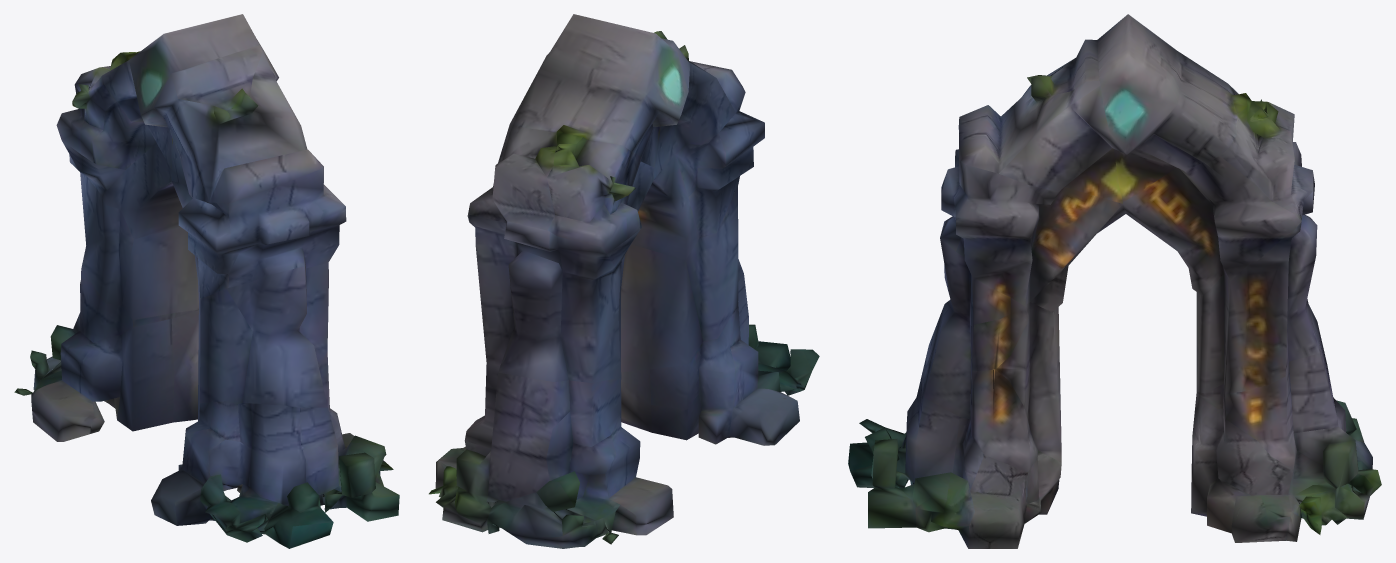
Rendered from portal_frame.glb.
3 views of the same model, side by side, from view 1: azimuth 30°, elevation 25°; view 2: azimuth 150°, elevation 25°; view 3: azimuth 270°, elevation 25° (orthographic). The views are drawn at different scales.
Parts seen in each view (by area): view 1: tripo_node_323ea3ce-44e0-4dde-af25-137f958fb60e; view 2: tripo_node_323ea3ce-44e0-4dde-af25-137f958fb60e; view 3: tripo_node_323ea3ce-44e0-4dde-af25-137f958fb60e.
Part boxes in pixels (box(x1,y1,x2,y2)): tripo_node_323ea3ce-44e0-4dde-af25-137f958fb60e: box(14, 14, 399, 548); tripo_node_323ea3ce-44e0-4dde-af25-137f958fb60e: box(429, 14, 819, 548); tripo_node_323ea3ce-44e0-4dde-af25-137f958fb60e: box(848, 14, 1381, 548).
Bounding box in the file's own units: 0.4543 × 0.8808 × 0.926.
1 material, 1 textured.
